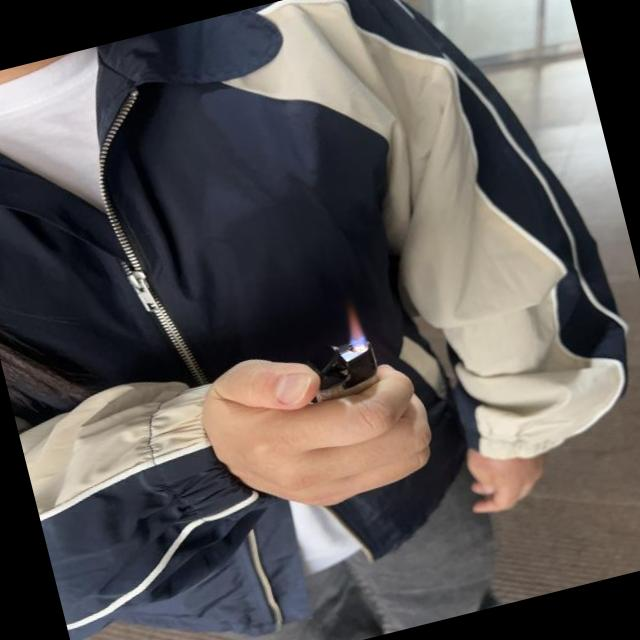Fire: (342, 305, 367, 346)
